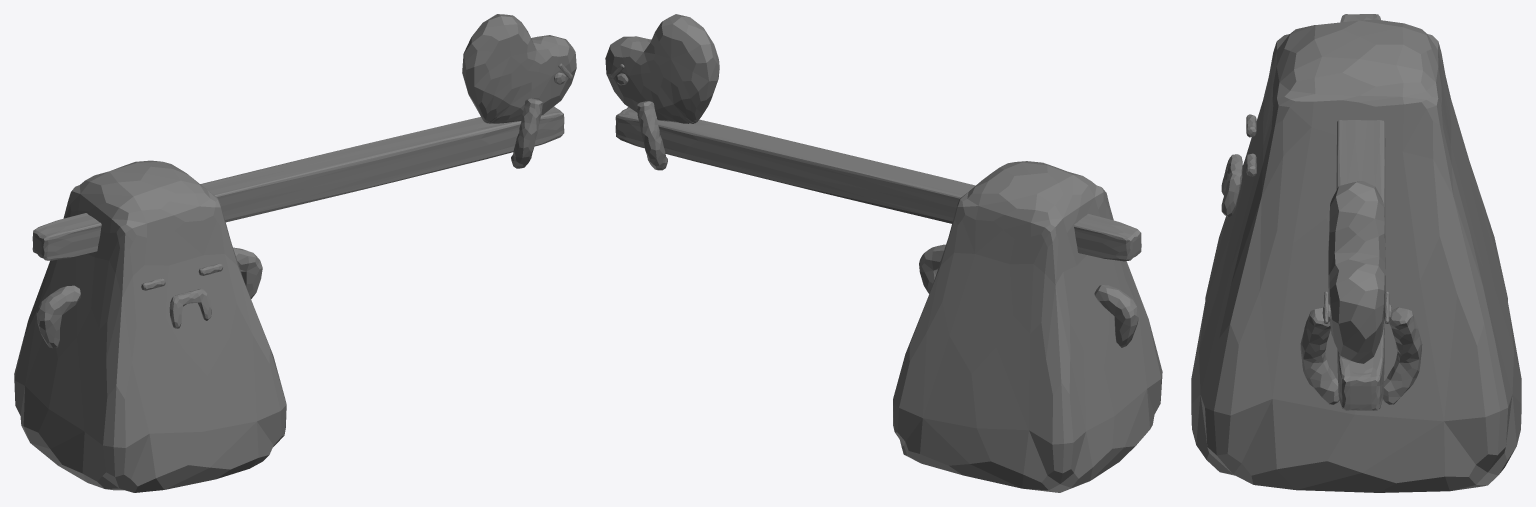
File: Pestle.obj
3 views of the same model, side by side, from view 1: azimuth 30°, elevation 25°; view 2: azimuth 150°, elevation 25°; view 3: azimuth 270°, elevation 25° (orthographic). The views are drawn at different scales.
Visible parts, largest first — view 1: Cube; view 2: Cube; view 3: Cube.
Part boxes in pixels (box(x1,y1,x2,y2)): Cube: box(14, 14, 576, 492); Cube: box(605, 14, 1162, 492); Cube: box(1191, 14, 1521, 492).
Bounding box in the file's own units: 5.28 × 3.36 × 1.97.
Materials: 1 (1 with a texture image).
